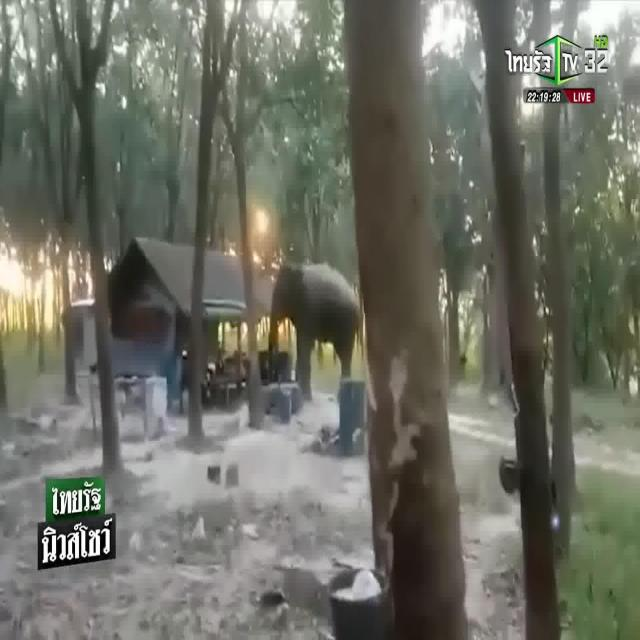Elephant: (270, 252, 358, 367)
